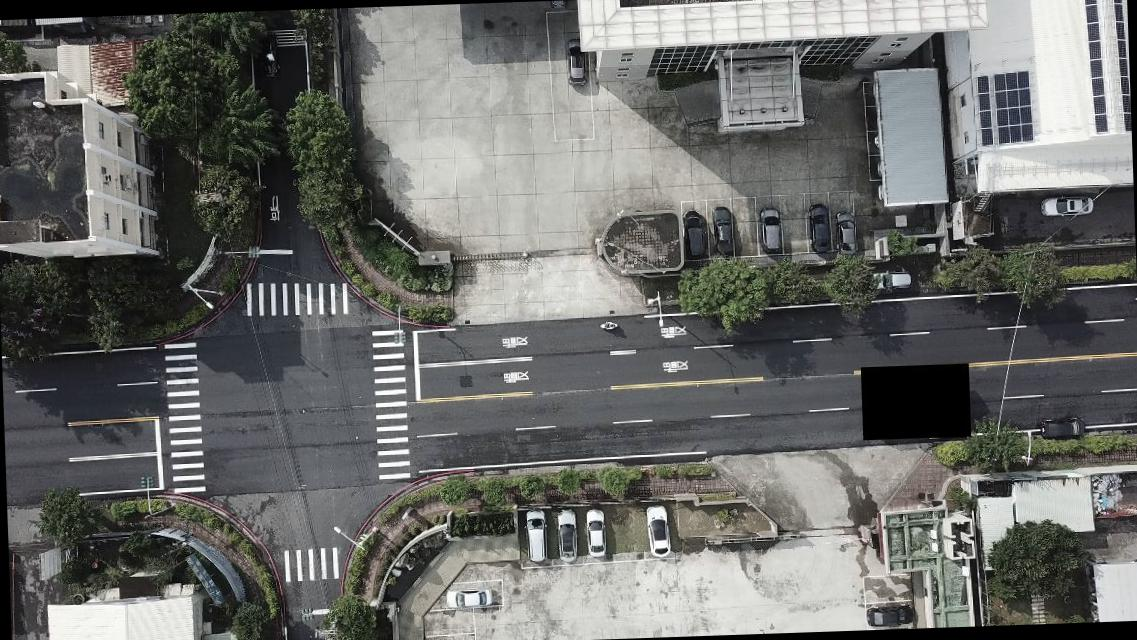vehicle: (643, 502, 670, 558), (250, 30, 280, 78), (524, 507, 548, 563), (554, 506, 578, 562), (1038, 194, 1094, 218), (563, 37, 588, 86), (583, 508, 608, 556), (710, 205, 734, 255), (809, 200, 831, 253), (1036, 417, 1086, 439), (681, 209, 704, 255), (835, 210, 858, 256), (443, 586, 491, 608), (866, 603, 914, 625), (756, 210, 779, 253), (870, 271, 911, 290)
